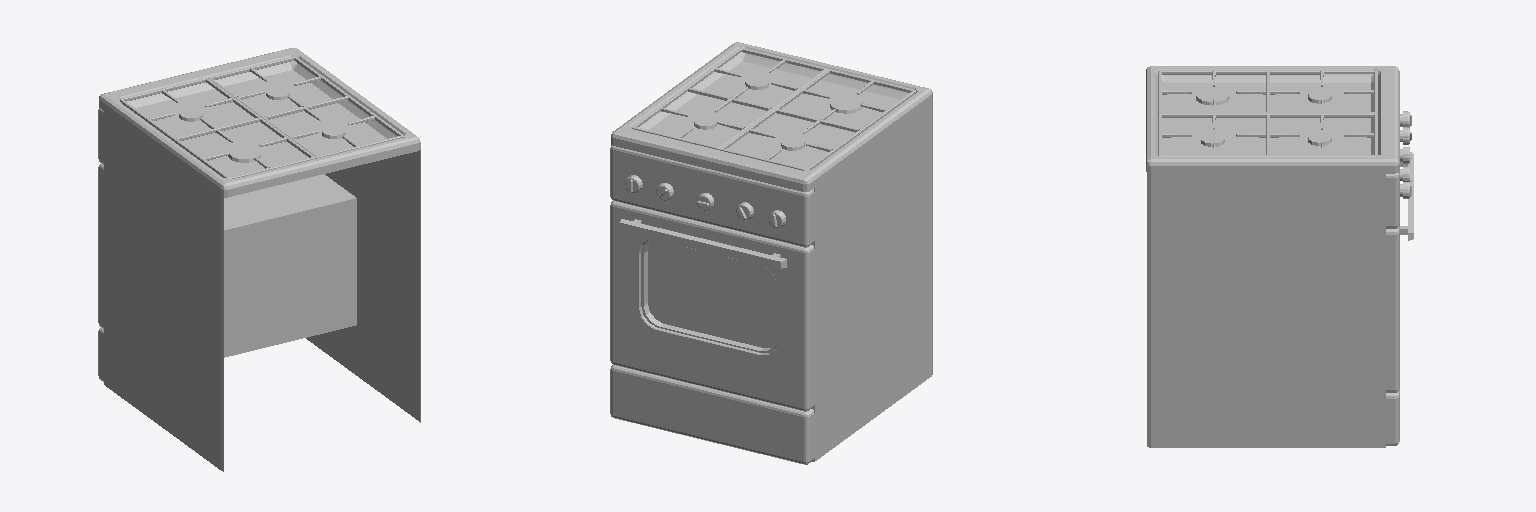
Rendered from gasstove.obj.
3 renders of one model, left to right at view 1: azimuth 30°, elevation 25°; view 2: azimuth 150°, elevation 25°; view 3: azimuth 270°, elevation 25°, orthographic.
Parts seen in each view (by area): view 1: gasstove_Cube.001; view 2: gasstove_Cube.001; view 3: gasstove_Cube.001.
Part boxes in pixels (x1,y1,x2,y2): gasstove_Cube.001: (98, 48, 420, 471); gasstove_Cube.001: (610, 42, 932, 464); gasstove_Cube.001: (1146, 66, 1413, 447).
Bounding box in the file's own units: 0.9736 × 1.34 × 1.14.